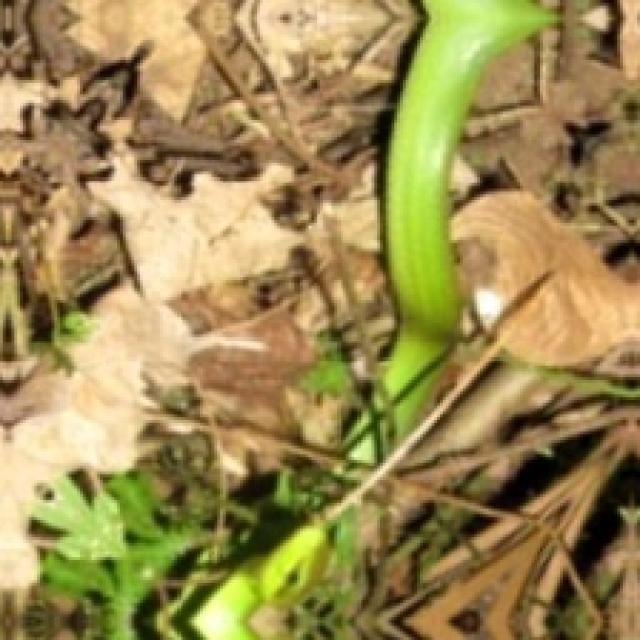red-tailed green ratsnake: (380, 0, 551, 440), (194, 523, 326, 637)
